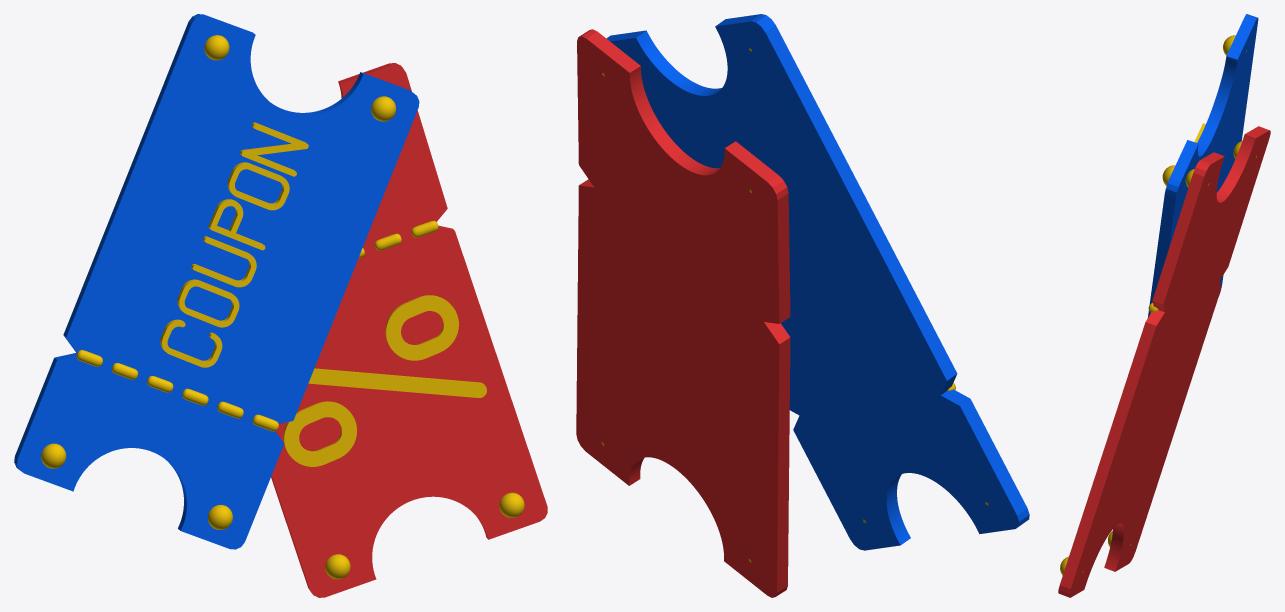
File: coupon-3d-animated-icon-1161006808210.glb
The picture shows the model from 3 angles, left to right: view 1: azimuth 30°, elevation 25°; view 2: azimuth 150°, elevation 25°; view 3: azimuth 270°, elevation 25°; orthographic projection. The views are drawn at different scales.
Parts seen in each view (by area): view 1: Plane, Plane.001, Curve.001, Curve.007, Curve.008, Sphere.001, Cube, Curve, Curve.003, Curve.006, Sphere.006, Curve.004 (+2 smaller); view 2: Plane.001, Plane; view 3: Plane.001, Plane, Sphere.006, Sphere.001.
Boxes of the visible parts, box(x1,y1,x2,y2) form: Plane: box(14, 14, 419, 549); Plane.001: box(271, 63, 547, 597); Curve.001: box(308, 368, 486, 397); Curve.007: box(385, 295, 458, 360); Curve.008: box(283, 401, 356, 466); Sphere.001: box(41, 35, 396, 529); Cube: box(76, 350, 278, 431); Curve: box(240, 122, 308, 176); Curve.003: box(177, 279, 239, 327); Curve.006: box(227, 162, 289, 210); Sphere.006: box(325, 492, 524, 579); Curve.004: box(191, 236, 256, 287); Plane.001: box(576, 29, 790, 597); Plane: box(606, 14, 1029, 550); Plane.001: box(1058, 126, 1270, 597); Plane: box(1148, 14, 1258, 317); Sphere.006: box(1060, 141, 1256, 575); Sphere.001: box(1162, 35, 1246, 185).
Bounding box in the file's own units: 3.63 × 4.18 × 1.55.
